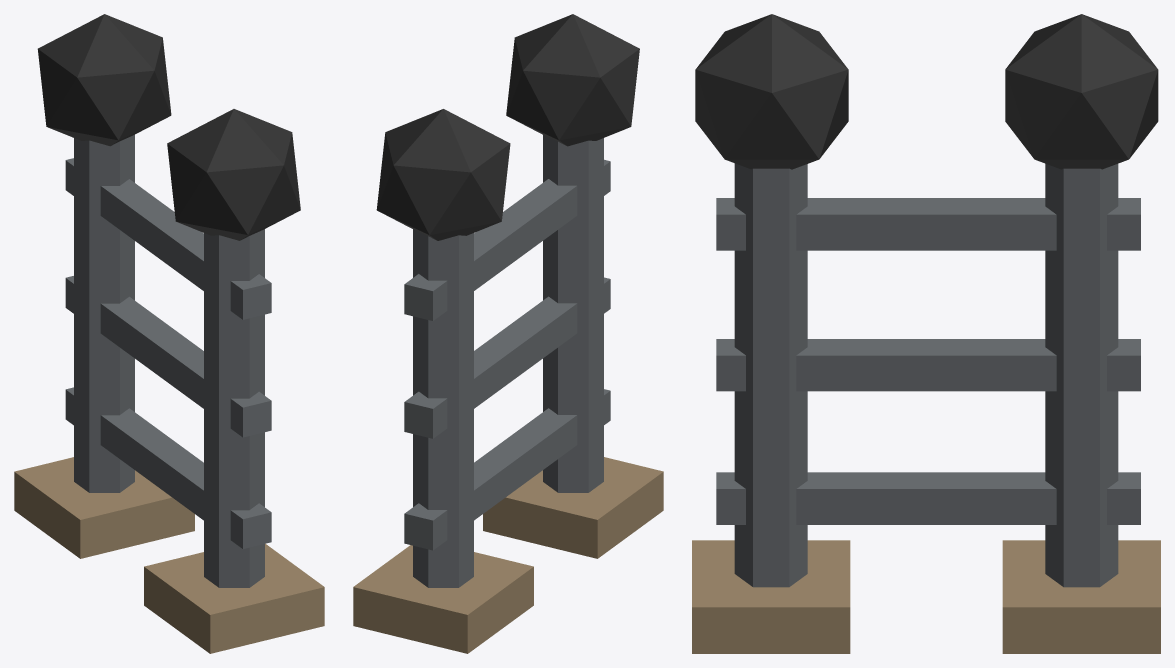
Rendered from LightGreyMetalDecorationSmallScienceItem1.fbx.
3 views of the same model, side by side, from view 1: azimuth 30°, elevation 25°; view 2: azimuth 150°, elevation 25°; view 3: azimuth 270°, elevation 25° (orthographic). The views are drawn at different scales.
Parts seen in each view (by area): view 1: LightGreyMetalDecorationSmallScienceItem1; view 2: LightGreyMetalDecorationSmallScienceItem1; view 3: LightGreyMetalDecorationSmallScienceItem1.
Boxes of the visible parts, <box> form: LightGreyMetalDecorationSmallScienceItem1: <box>14,14,324,653</box>; LightGreyMetalDecorationSmallScienceItem1: <box>353,14,663,653</box>; LightGreyMetalDecorationSmallScienceItem1: <box>692,14,1160,653</box>.
Bounding box in the file's own units: 45.34 × 188 × 132.
